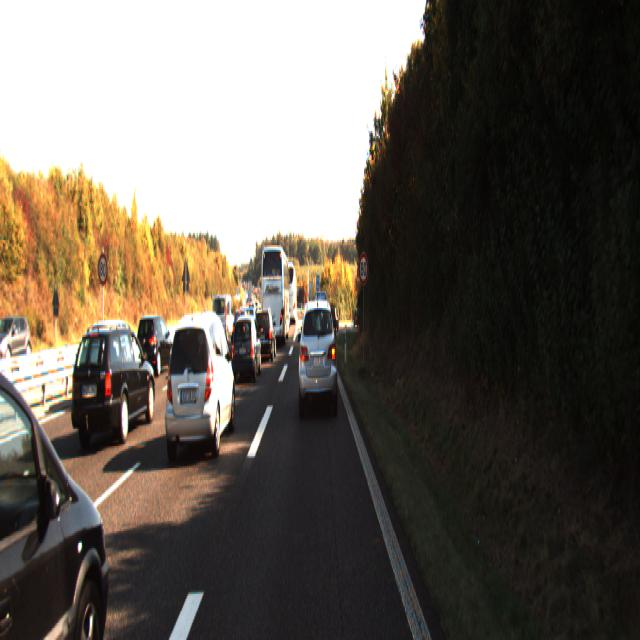Car: (0, 312, 120, 638), (69, 321, 157, 450), (163, 310, 236, 464), (79, 315, 145, 403), (298, 297, 338, 418), (260, 242, 290, 344), (134, 312, 174, 376), (230, 312, 262, 382), (252, 306, 276, 360), (211, 294, 232, 343), (283, 263, 297, 324), (328, 306, 339, 332)
